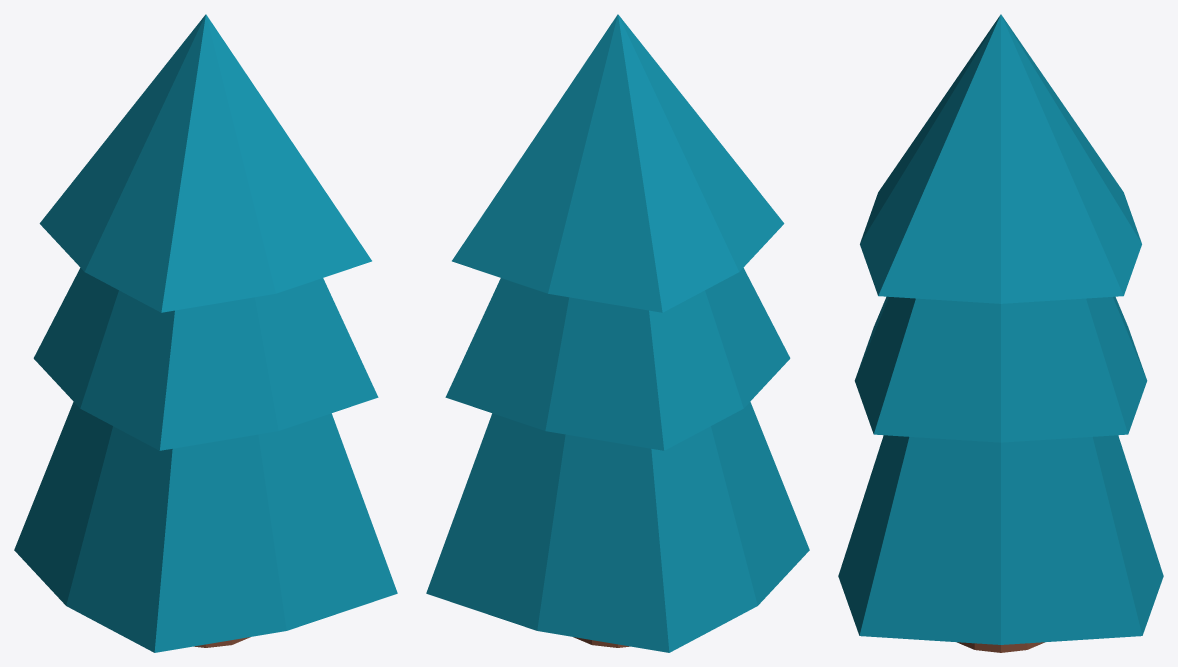
Rendered from Tree_23_summer_blue_pal.fbx.
3 views of the same model, side by side, from view 1: azimuth 30°, elevation 25°; view 2: azimuth 150°, elevation 25°; view 3: azimuth 270°, elevation 25° (orthographic).
Visible parts, largest first — view 1: Tree_23_summer_blue_pal; view 2: Tree_23_summer_blue_pal; view 3: Tree_23_summer_blue_pal.
Part boxes in pixels (x1=…): Tree_23_summer_blue_pal: x1=14, y1=14, x2=397, y2=652; Tree_23_summer_blue_pal: x1=426, y1=14, x2=809, y2=652; Tree_23_summer_blue_pal: x1=838, y1=14, x2=1163, y2=652.
Size of the model in its own units: 90.1 by 188 by 90.1.
